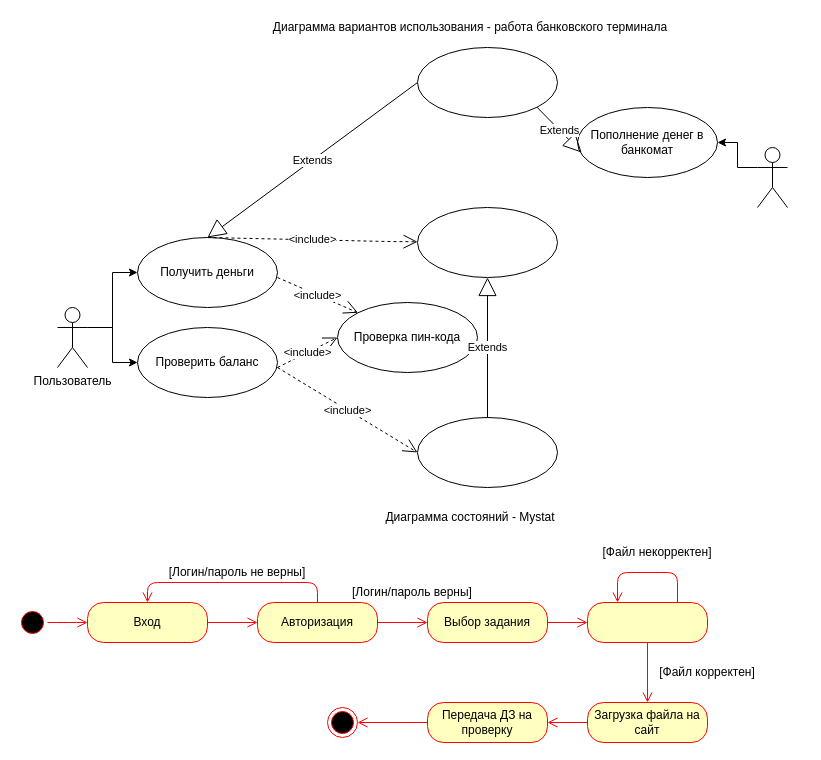
Some shapes in this 821 by 760 pixel diagram are drawn without their labels. The centre of each missing label's shape, as x and y in pixels:
"Выбор суммы" belongs at point (487, 242).
"Выбор файла для загрузки" belongs at point (647, 622).
"инкассатор" belongs at point (772, 177).
"Проверка денег в банкомате" belongs at point (487, 82).
"Проверка счета" belongs at point (487, 452).
